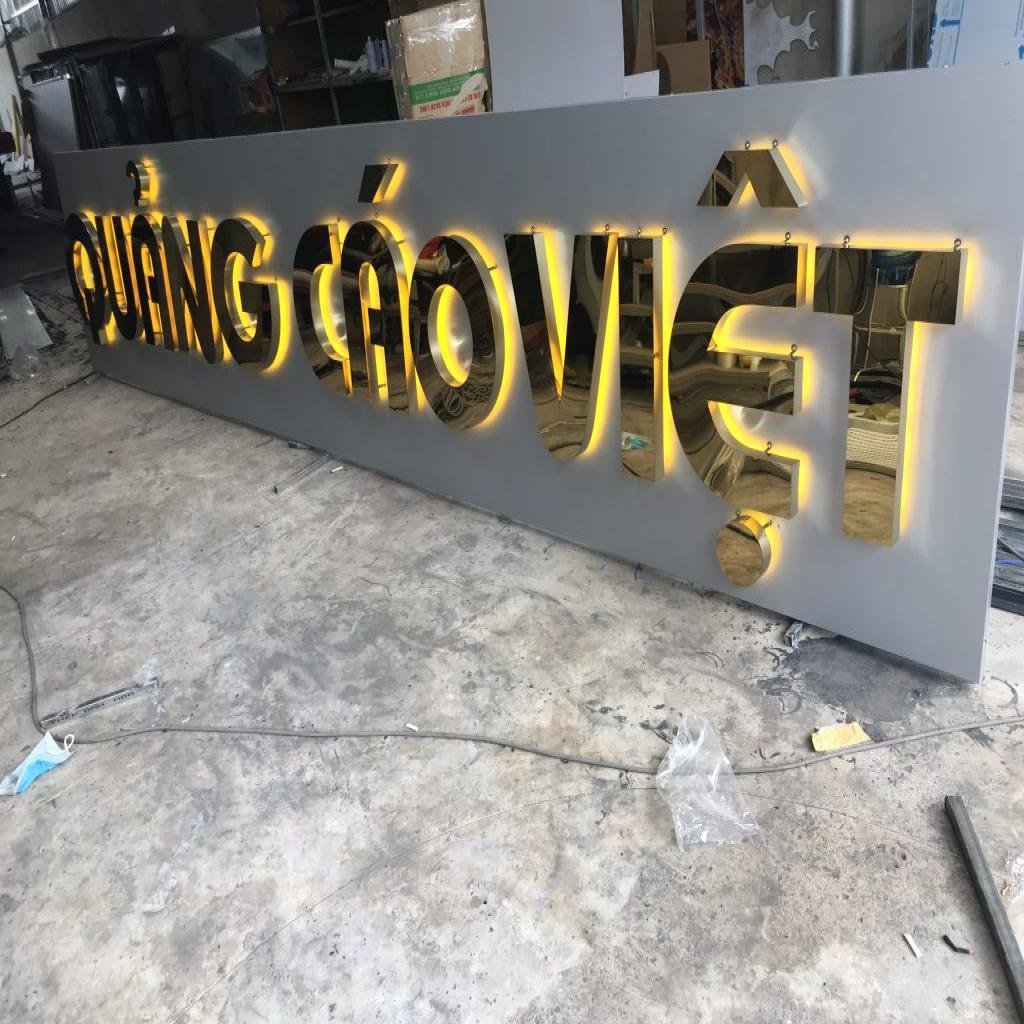text: (497, 140, 988, 647), (281, 156, 508, 441), (54, 157, 285, 387)
